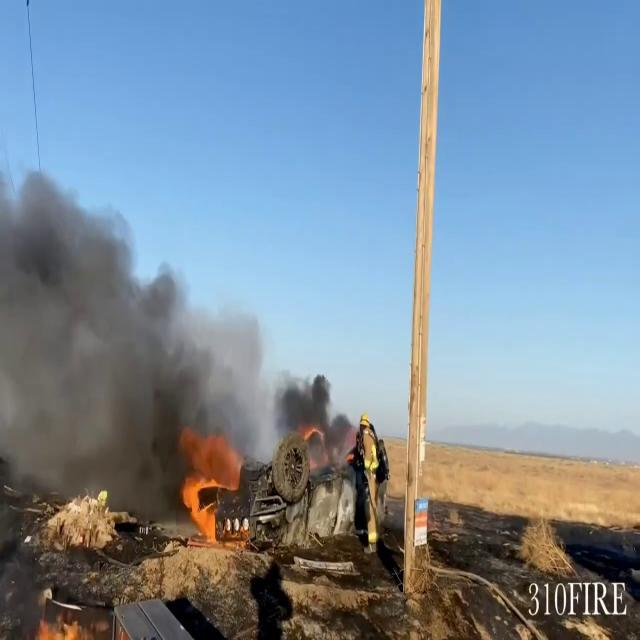Fire: (172, 426, 250, 544)
Smoke: (0, 147, 236, 520)
